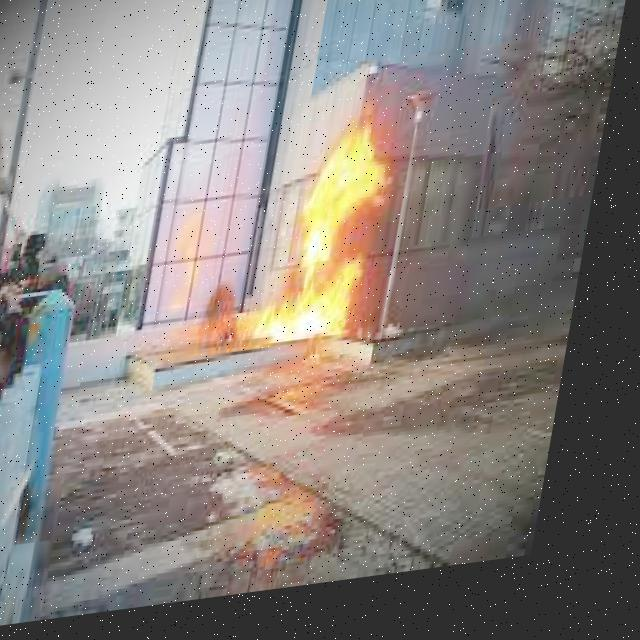Fire: (266, 118, 425, 362)
